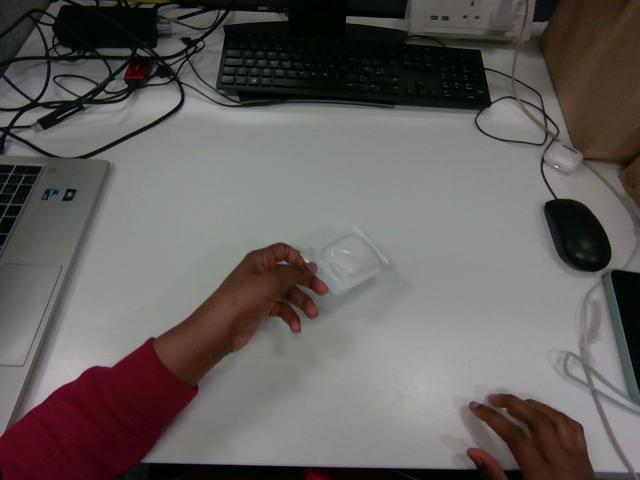gauze: (304, 226, 388, 294)
